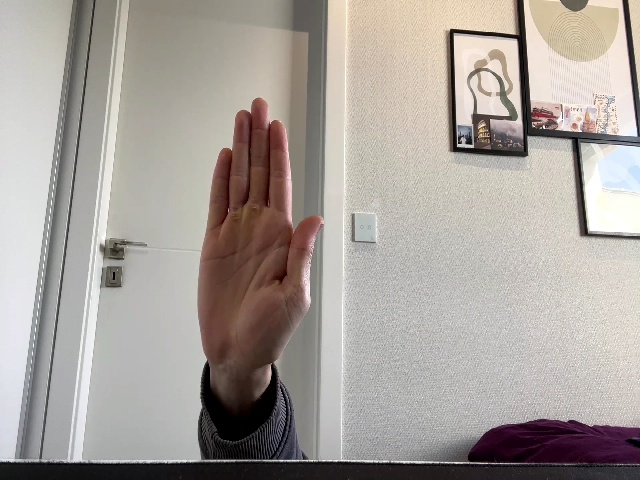B: (197, 96, 324, 369)
